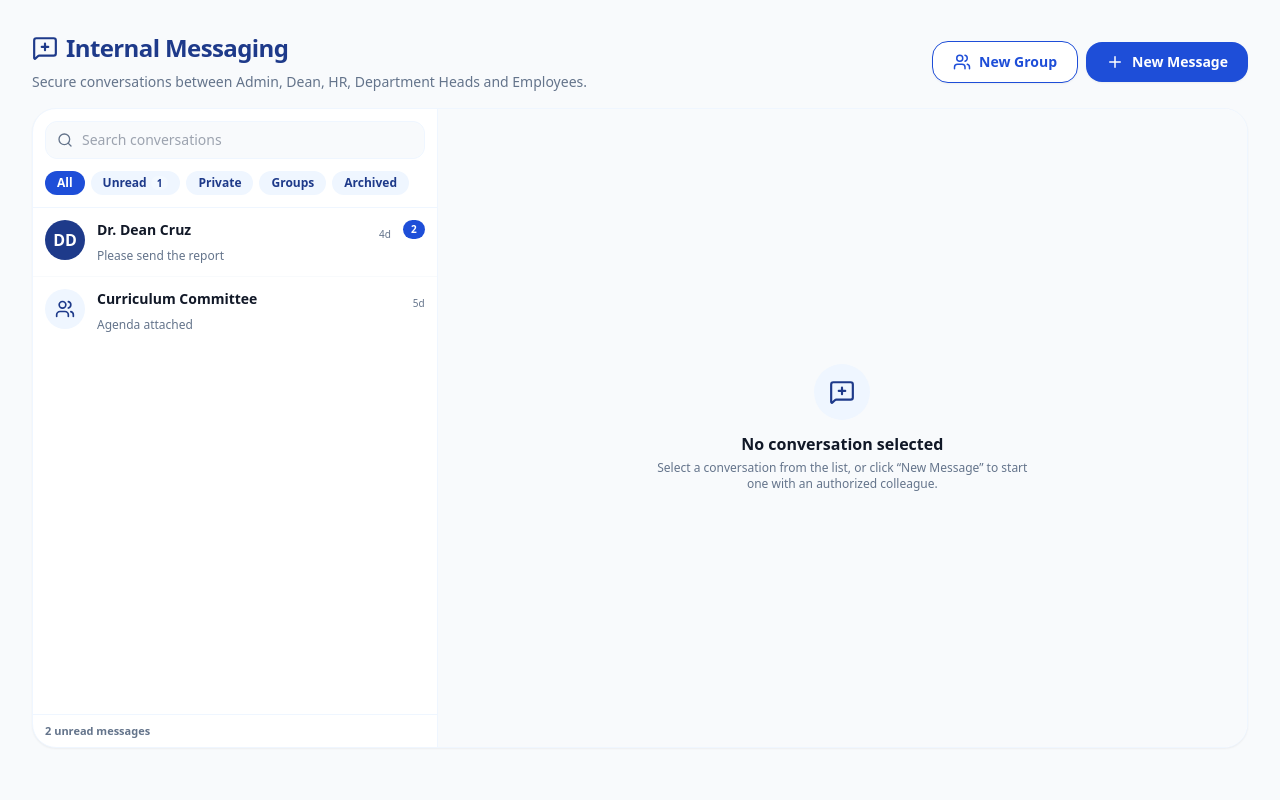
Test: MessagesPage (internal messaging) › lists private and group conversations with unread counters and filter switching
The image size is (1280, 800).
Expected: the heading "Dr. Dean Cruz" is shown, [97,220,191,240]
Expected: the heading "Curriculum Committee" is shown, [97,289,257,309]
Click the button "Archived" at (371, 183), box [332,171,409,195]
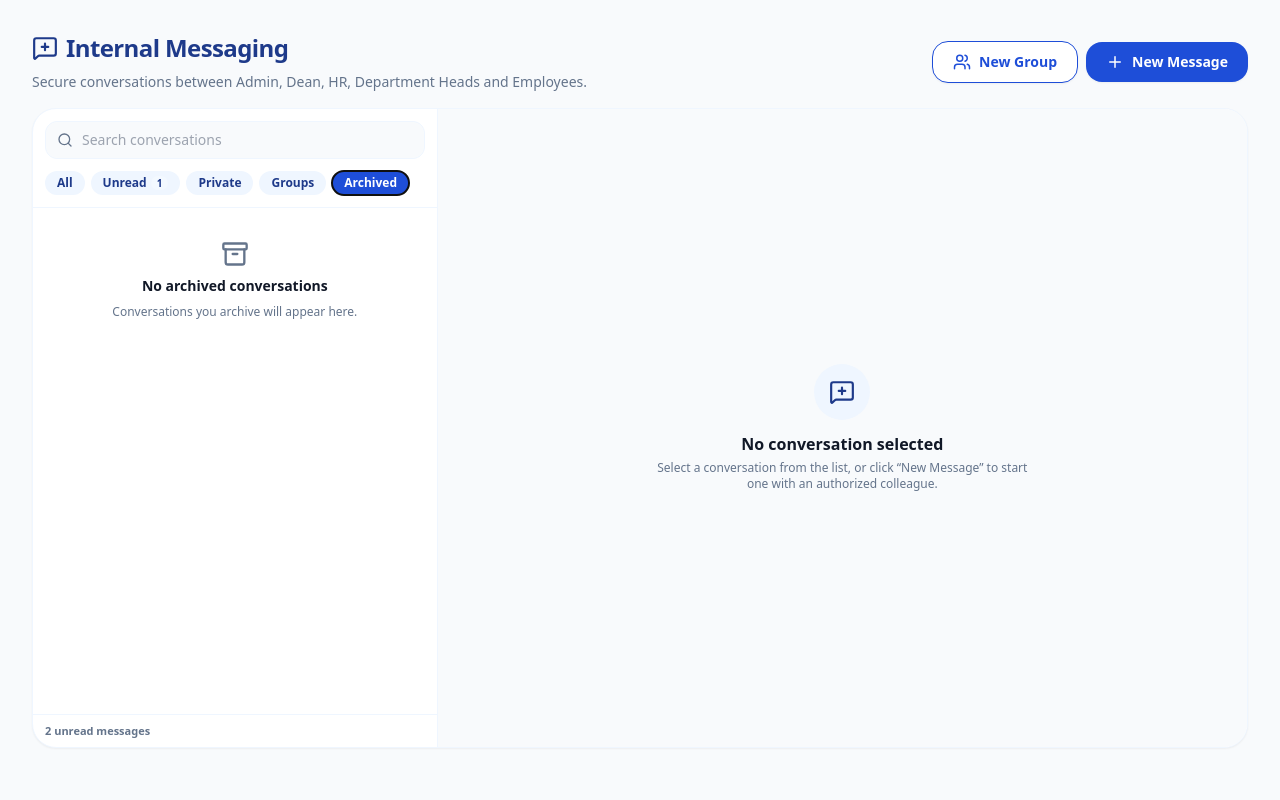
Now the text "No archived conversations" is shown, box [142,276,328,296]
